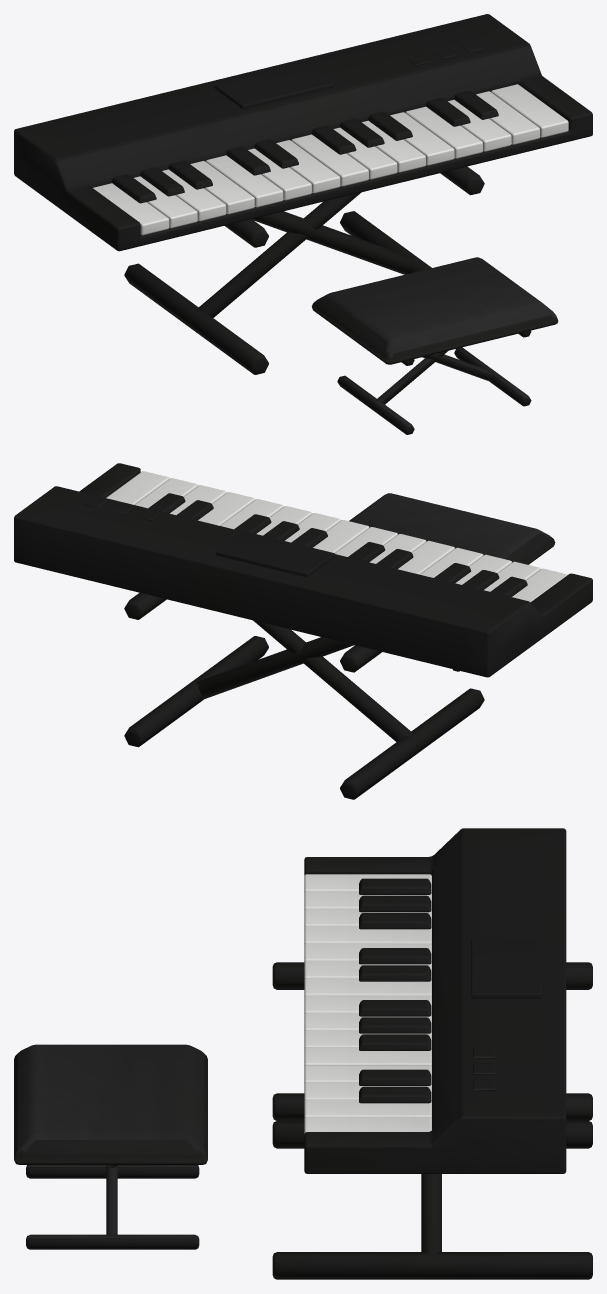
Rendered from keybroad_set_01.fbx.
The picture shows the model from 3 angles, top to bottom: view 1: azimuth 30°, elevation 25°; view 2: azimuth 150°, elevation 25°; view 3: azimuth 270°, elevation 25°; orthographic projection. The views are drawn at different scales.
Visible parts, largest first — view 1: keybroad_set_01; view 2: keybroad_set_01; view 3: keybroad_set_01.
Boxes of the visible parts, x1=… form: keybroad_set_01: x1=14, y1=14, x2=592, y2=434; keybroad_set_01: x1=14, y1=463, x2=592, y2=799; keybroad_set_01: x1=14, y1=828, x2=592, y2=1279.
Bounding box in the file's own units: 834 × 705 × 329.
1 material, 1 textured.
